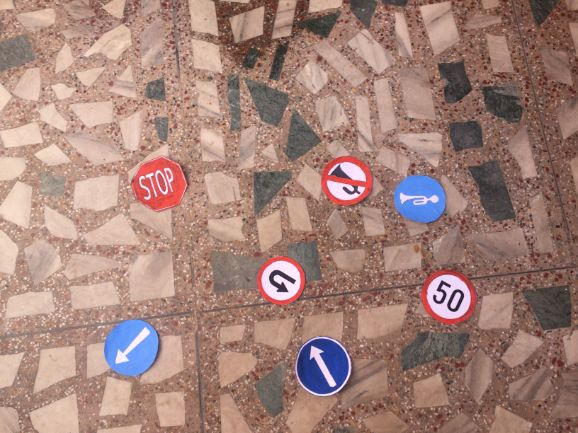blow-horn: (393, 174, 446, 222)
go-stright: (294, 335, 348, 395)
keep-left: (105, 318, 160, 377)
no-horn: (321, 155, 374, 207)
speed-50: (422, 268, 476, 323)
stop: (130, 157, 191, 212)
u-turn: (256, 256, 304, 306)
